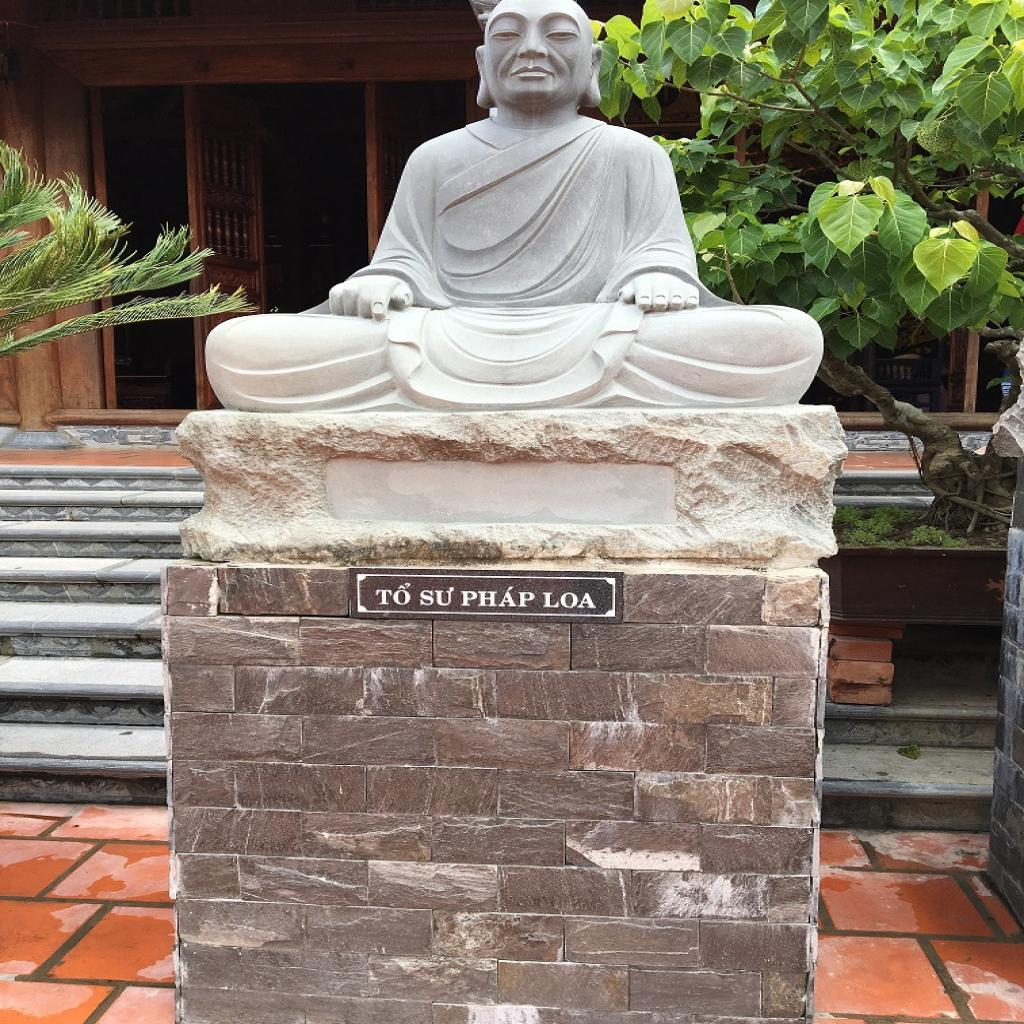text: (459, 584, 538, 612), (372, 581, 414, 608), (417, 584, 457, 610)
